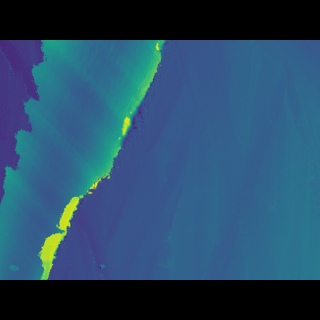Loch: (0, 72, 176, 249)
